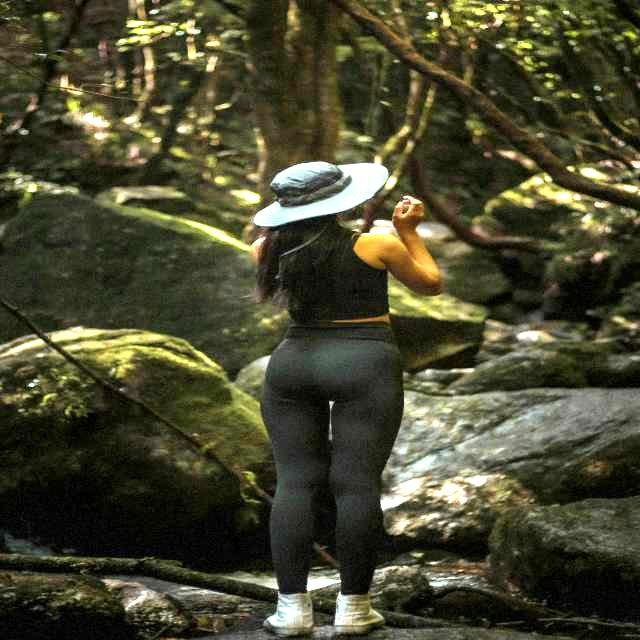no_hard_hat: (254, 162, 389, 227)
person: (250, 162, 439, 636)
